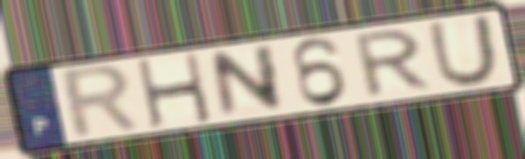6: (289, 35, 351, 109)
H: (132, 50, 216, 132)
N: (207, 41, 287, 121)
R: (59, 61, 146, 143), (352, 26, 436, 101)
U: (425, 12, 501, 90)
